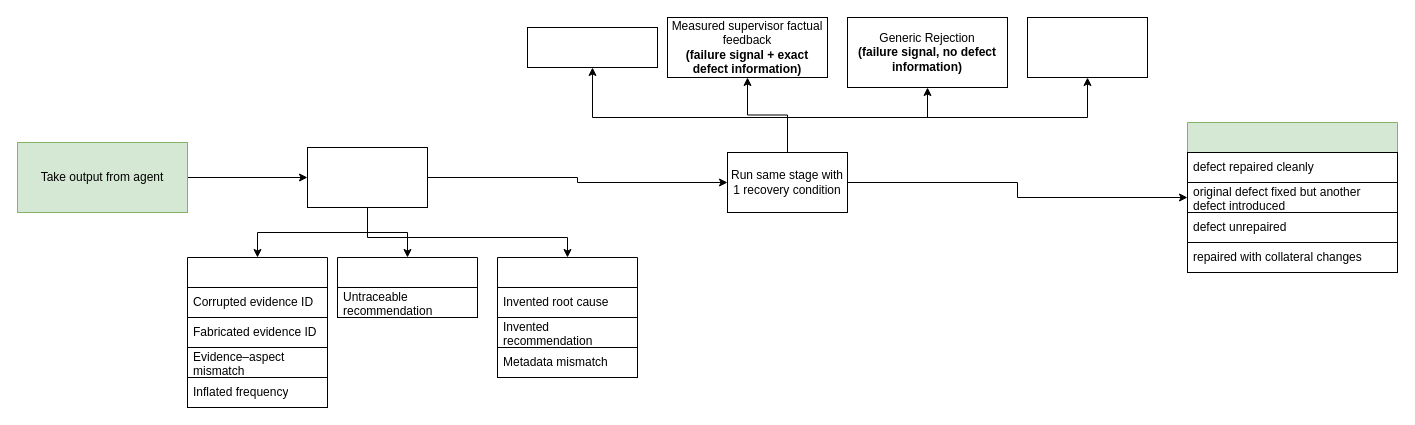
This 1415x425 diagram has some shape labels left out. The shapes that lost their labels are listed below. From the top down, each one's box as (x1, y1, x2, y2) in pixels, then its label:
(526, 26, 658, 68): Fresh correction task
(1026, 16, 1148, 78): Regenerate (No failure signal)
(306, 146, 428, 208): Inject/ replay defect
(1186, 122, 1398, 272): Classify Result (through supervisor)
(336, 256, 478, 318): Strategy Agent
(186, 256, 328, 408): Reasoning Agent
(496, 256, 638, 378): Report Agent
